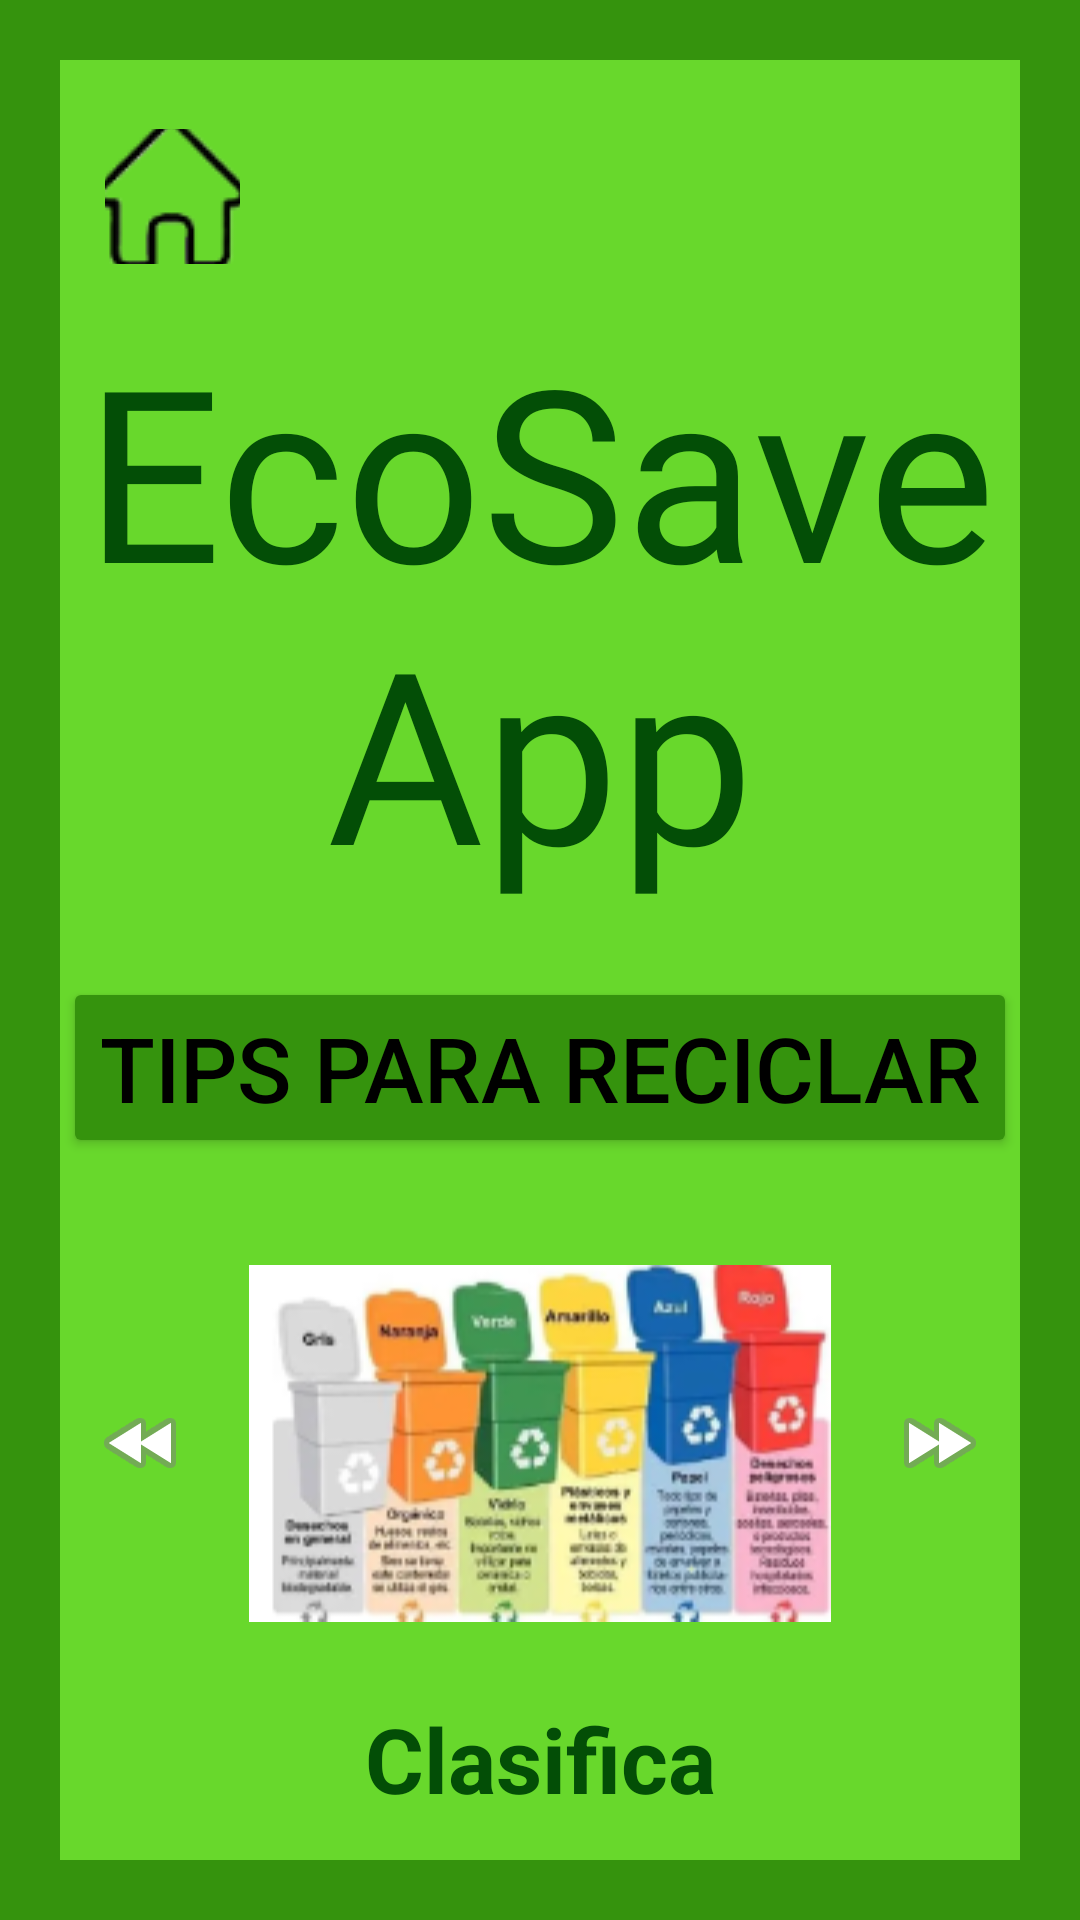

Named icons in this screenshot (1080*1920) and their bounding boxes, (x1, y1, x2, y2):
casa: (105, 129, 240, 264)
rew: (104, 1418, 176, 1468)
